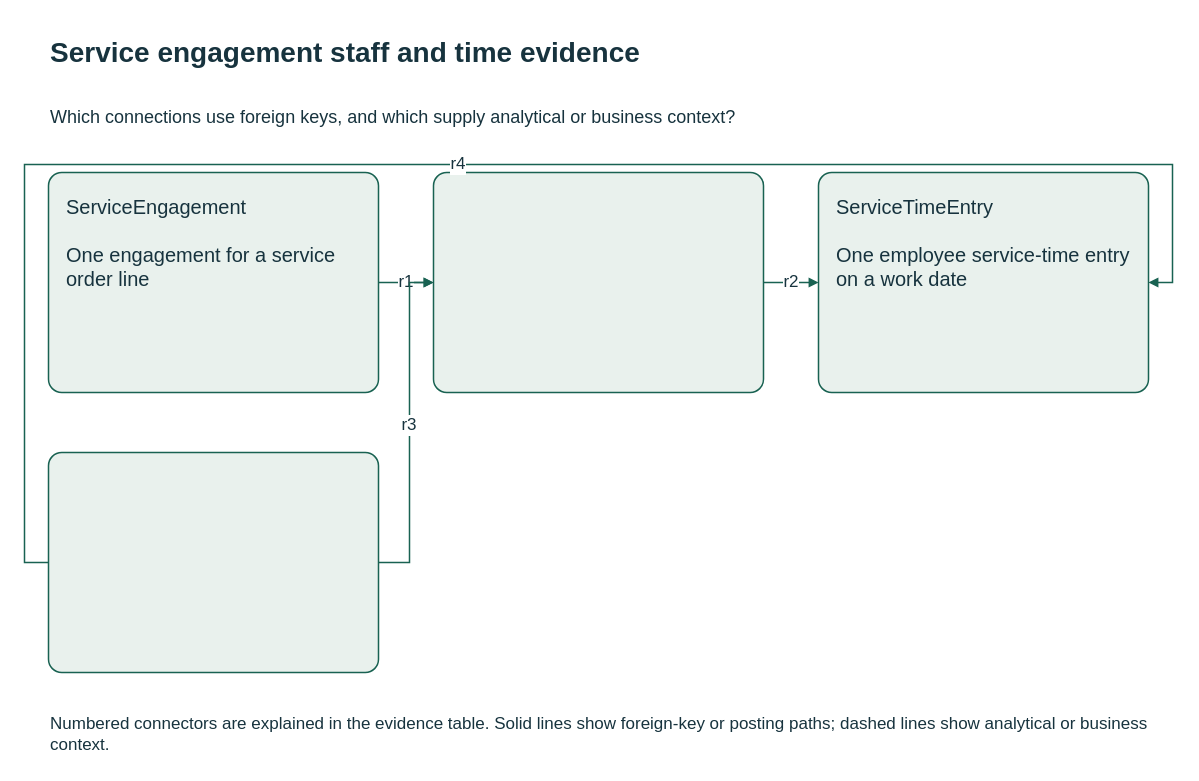
Image size: 1199x781. Some labels were removed from this diagram. The shapes that lost their labels are listed below. From the top down, each one's centre as x and y in pixels, then its label:
At (x=598, y=282): "ServiceEngagementAssignment One employee assignment to an engagement".
At (x=213, y=562): "Employee One employee".
